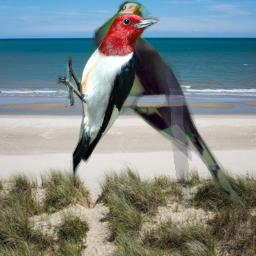Cuckoo: (92, 0, 253, 209)
Woodpecker: (55, 13, 161, 181)
